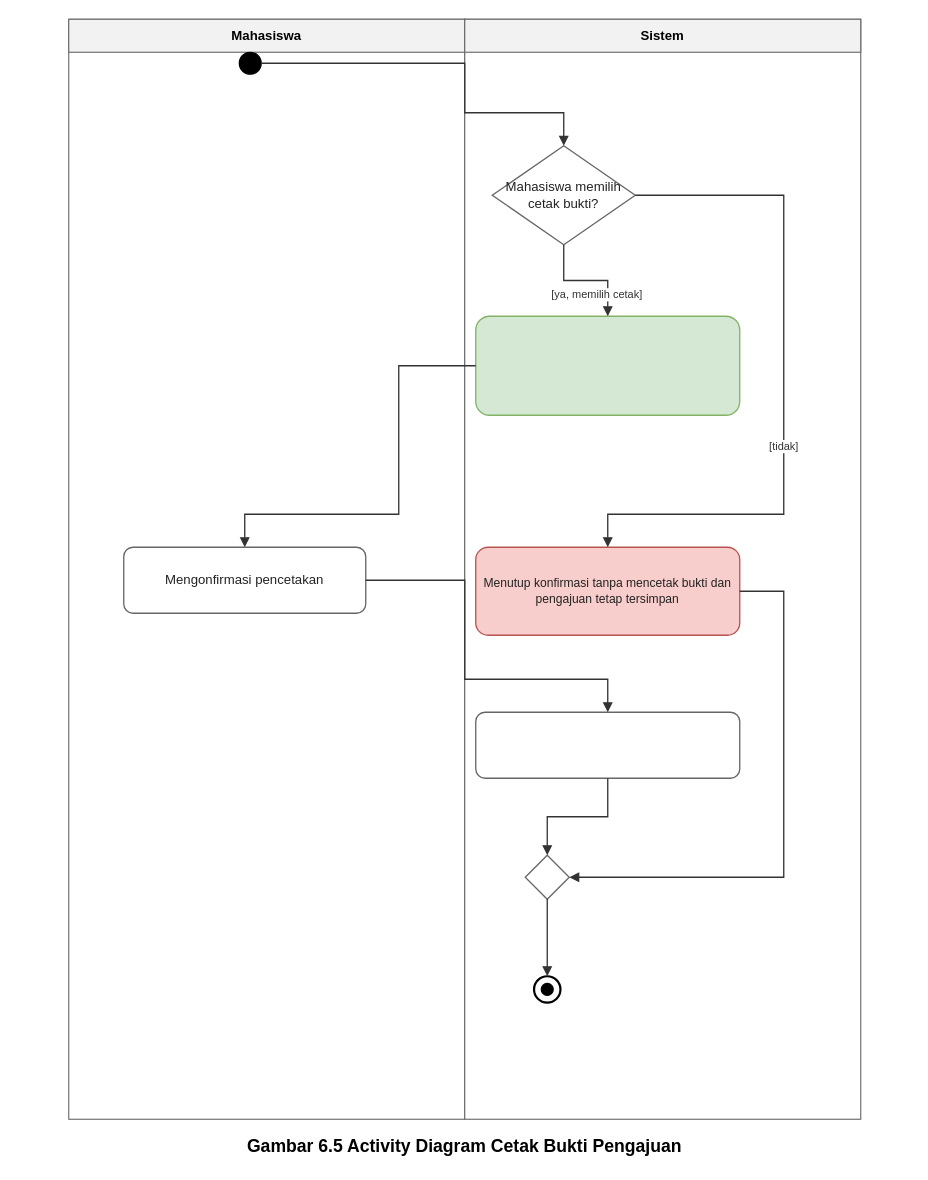
Image size: 928x1180. Some labels were removed from this diagram. Here are the shapes that lost their labels. From the top down, the centre of each, then its label:
(x=607, y=365): Menampilkan bukti pengajuan dengan nomor pengajuan dan status Menunggu Keputusan
(x=607, y=744): Mencetak bukti pengajuan
